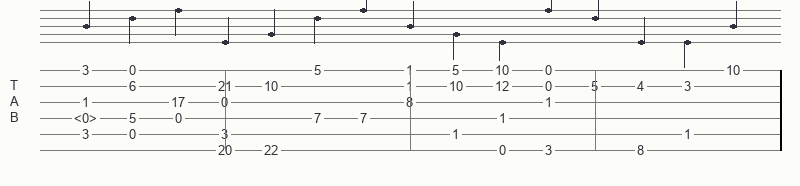0: (129, 127, 140, 141), (129, 63, 140, 77), (175, 111, 186, 125), (221, 95, 232, 109), (499, 143, 510, 157), (545, 79, 556, 93), (545, 63, 556, 77)
1: (82, 95, 93, 109), (406, 79, 417, 93), (406, 63, 417, 77), (452, 127, 463, 141), (499, 111, 510, 125), (545, 95, 556, 109), (684, 127, 695, 141)
10: (264, 79, 282, 93), (449, 79, 467, 93), (495, 63, 513, 77), (726, 63, 744, 77)
12: (495, 79, 513, 93)
17: (171, 95, 189, 109)
20: (218, 143, 236, 157)
21: (218, 79, 236, 93)
22: (264, 143, 282, 157)
3: (82, 127, 93, 141), (82, 63, 93, 77), (221, 127, 232, 141), (545, 143, 556, 157), (684, 79, 695, 93)
4: (637, 79, 648, 93)
5: (129, 111, 140, 125), (314, 63, 325, 77), (452, 63, 463, 77), (591, 79, 602, 93)
6: (129, 79, 140, 93)
7: (314, 111, 325, 125), (360, 111, 371, 125)
8: (406, 95, 417, 109), (637, 143, 648, 157)
harmonic: (74, 111, 101, 125)
